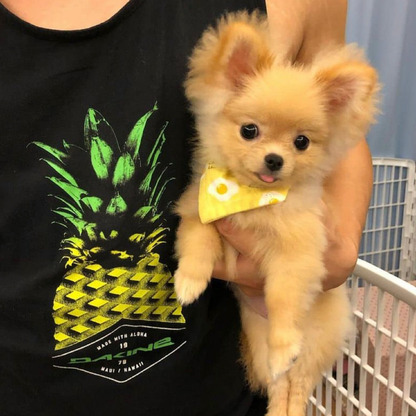Pomeranian: (193, 24, 363, 398)
